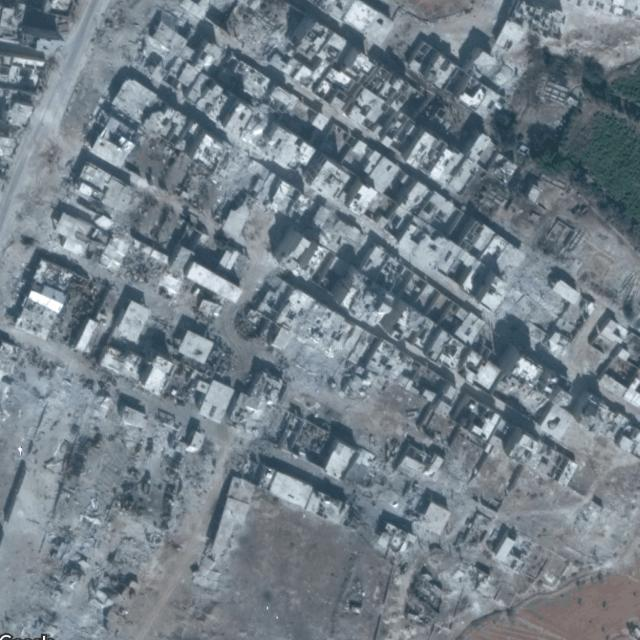damaged_building: (2, 282, 416, 639), (372, 378, 576, 636), (14, 242, 169, 350), (194, 112, 301, 224), (506, 3, 638, 69), (222, 1, 310, 59)
